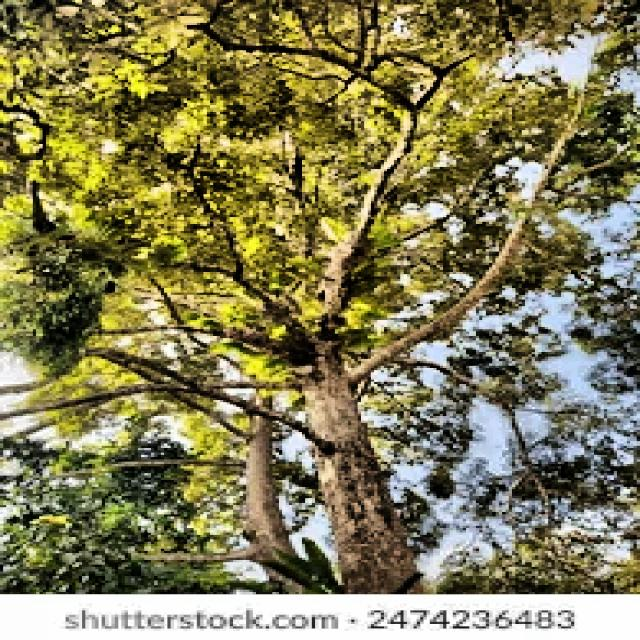arvore: (205, 230, 446, 595)
